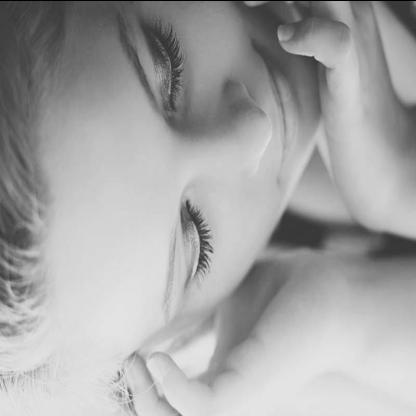Eye: (139, 20, 187, 114), (180, 195, 211, 293)
Mouth: (250, 38, 298, 167)
Nose: (184, 78, 272, 178)
